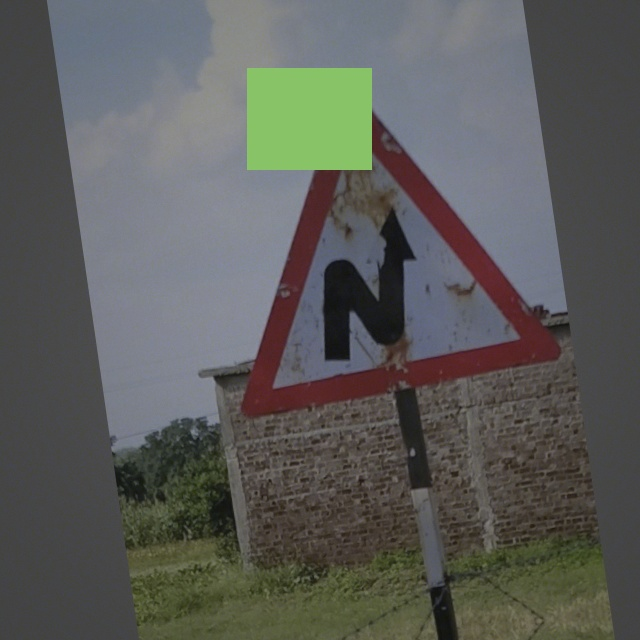Right_Reverse_Bend: (192, 64, 563, 408)
